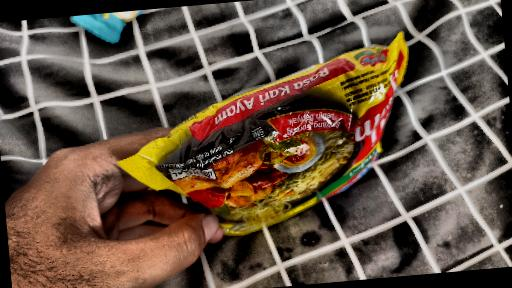indomie: (131, 47, 419, 226)
